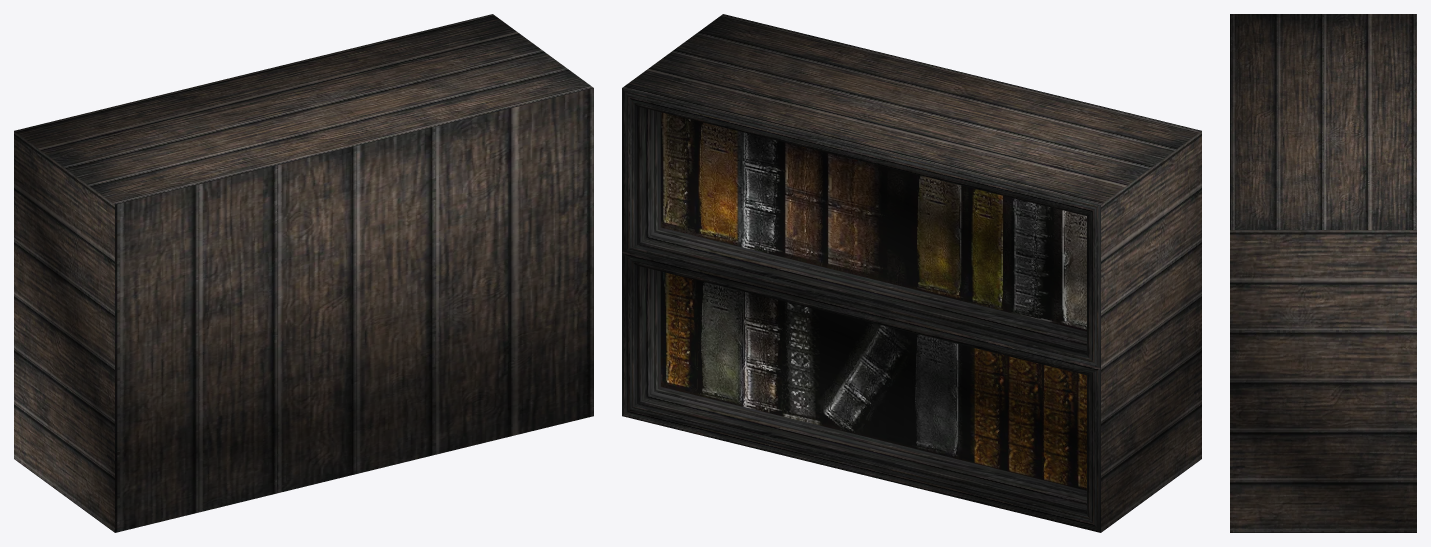
Rendered from GS_VOB_MERCHANT_BOOKSTAND_BLACK_01_KOZA.glb.
3 views of the same model, side by side, from view 1: azimuth 30°, elevation 25°; view 2: azimuth 150°, elevation 25°; view 3: azimuth 270°, elevation 25° (orthographic). The views are drawn at different scales.
Parts seen in each view (by area): view 1: Mesh; view 2: Mesh; view 3: Mesh.
Part boxes in pixels (x1,y1,x2,y2): Mesh: (14,14,593,532); Mesh: (622,14,1201,532); Mesh: (1230,14,1416,532).
Size of the model in its own units: 0.9054 by 0.5929 by 0.3312.
Materials: 3 (3 with a texture image).
